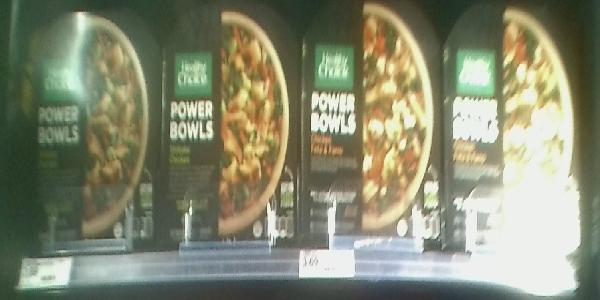pizza1: (445, 1, 589, 254), (301, 1, 447, 246), (157, 1, 300, 240), (19, 11, 157, 249)
